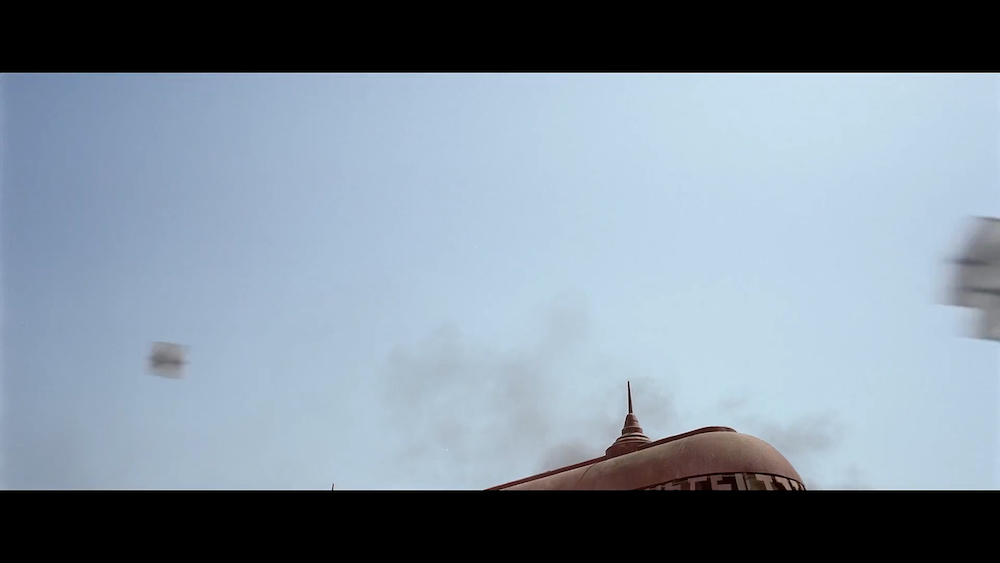Tie Fighter: (945, 216, 1000, 343), (144, 340, 190, 384)
